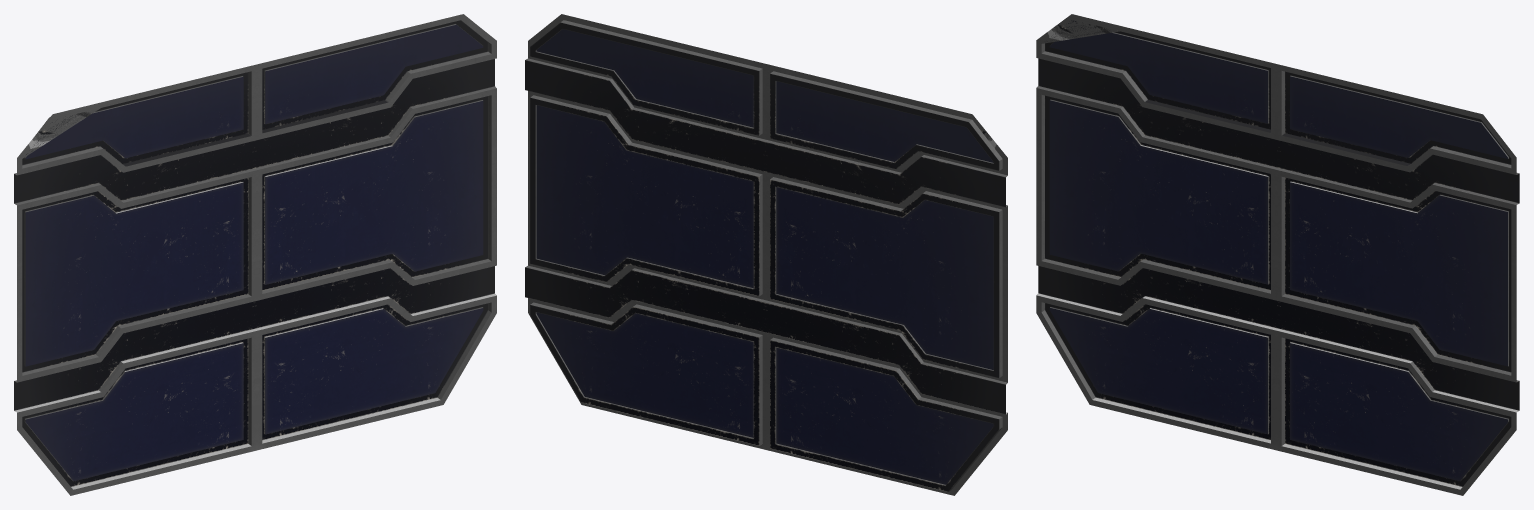
The model's file is GateDoor.fbx.
3 renders of one model, left to right at view 1: azimuth 30°, elevation 25°; view 2: azimuth 150°, elevation 25°; view 3: azimuth 330°, elevation 25°, orthographic.
Visible parts, largest first — view 1: Door_LP; view 2: Door_LP; view 3: Door_LP.
Part boxes in pixels (<box>): Door_LP: <box>14,14,496,495</box>; Door_LP: <box>525,14,1007,495</box>; Door_LP: <box>1036,14,1519,495</box>.
Size of the model in its own units: 266 by 204 by 3.22.
